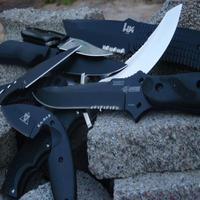knife: (4, 2, 200, 145)
